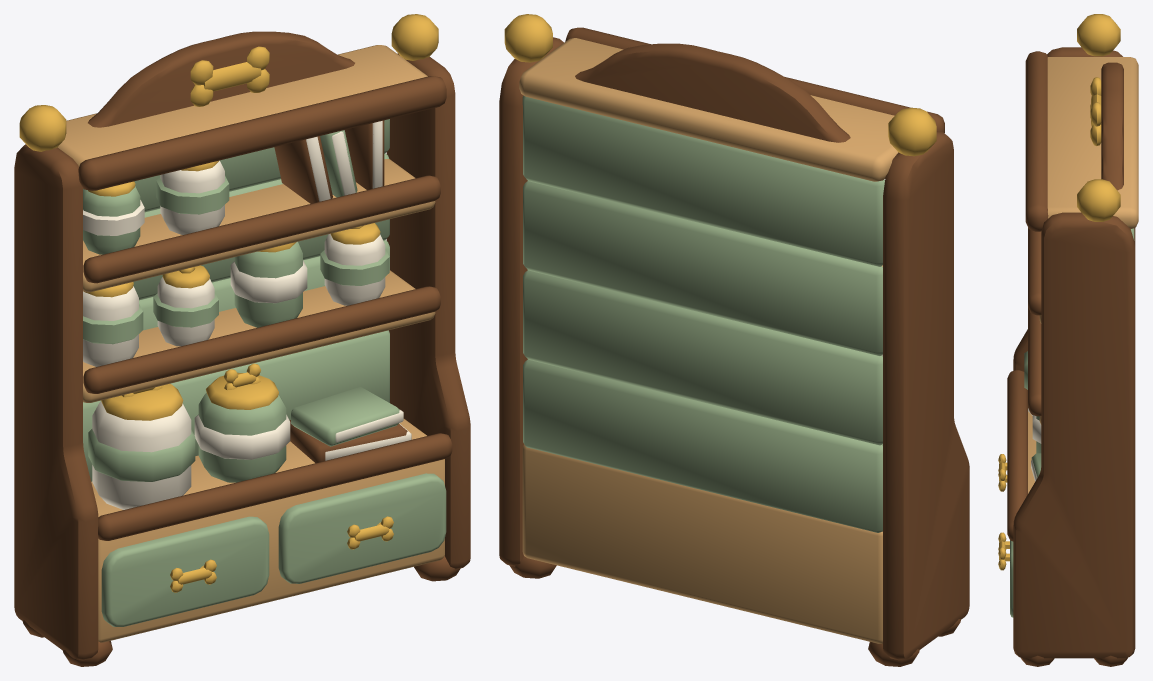
Rendered from ShopRecipeShelf.fbx.
The picture shows the model from 3 angles, left to right: view 1: azimuth 30°, elevation 25°; view 2: azimuth 150°, elevation 25°; view 3: azimuth 270°, elevation 25°; orthographic projection. The views are drawn at different scales.
Visible parts, largest first — view 1: ShopRecipeShelf; view 2: ShopRecipeShelf; view 3: ShopRecipeShelf.
Part boxes in pixels (x1,y1,x2,y2): ShopRecipeShelf: (14, 14, 470, 666); ShopRecipeShelf: (499, 14, 969, 666); ShopRecipeShelf: (998, 14, 1138, 666).
Bounding box in the file's own units: 1.24 × 1.59 × 0.4037.
